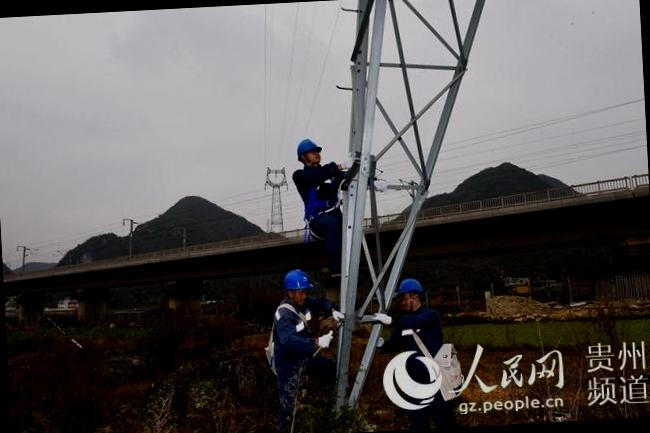helmet: (275, 266, 318, 296), (291, 128, 325, 160), (392, 274, 426, 304)
person: (253, 257, 331, 433), (386, 274, 452, 430), (288, 126, 354, 280)
